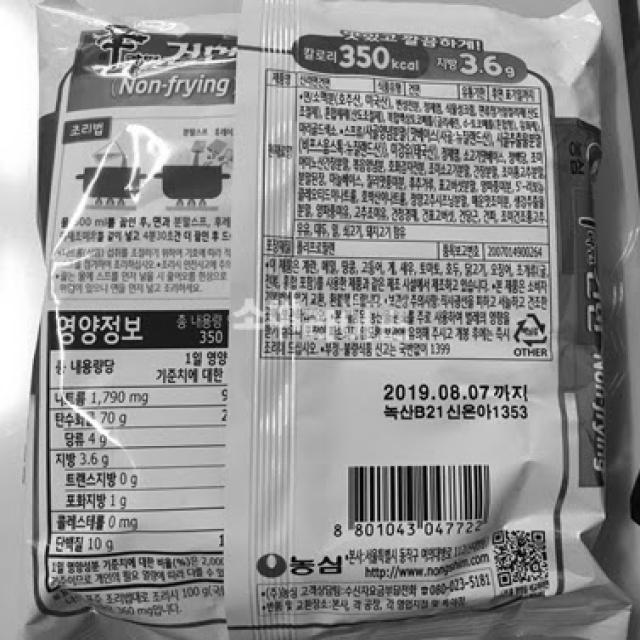Nutrition Label: (38, 303, 240, 633)
